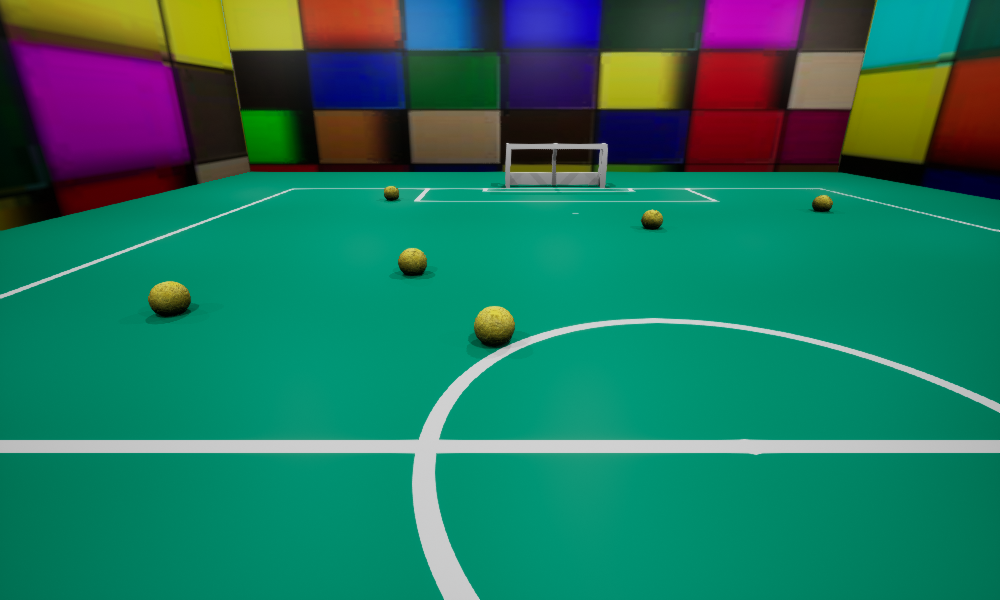b: (474, 306, 514, 345), (148, 281, 190, 315), (398, 248, 426, 275), (641, 209, 662, 228), (812, 195, 832, 211), (384, 186, 398, 200)
g: (505, 143, 607, 187)
